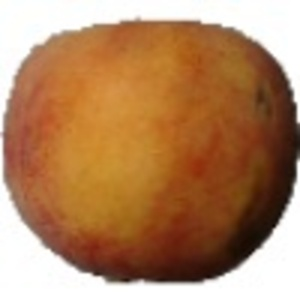pêssego: (1, 3, 300, 287)
